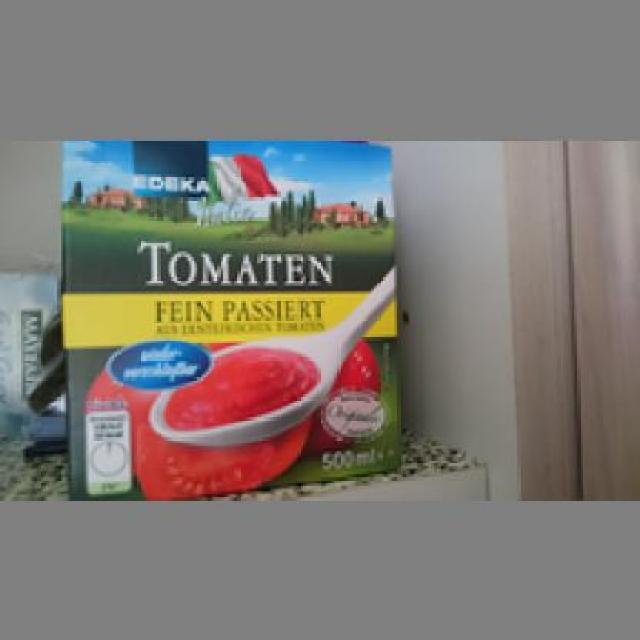Tomato Sauce: (57, 137, 400, 497)
